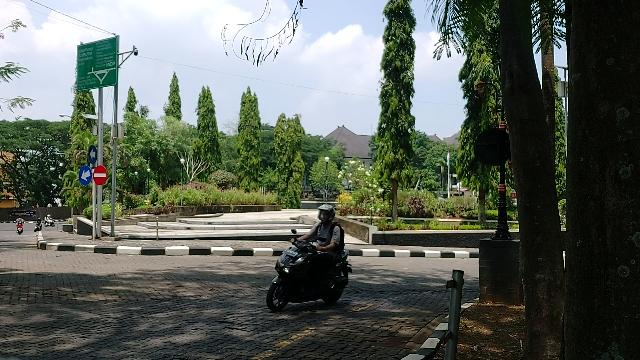helm: (318, 206, 336, 223)
motor: (268, 242, 354, 312)
